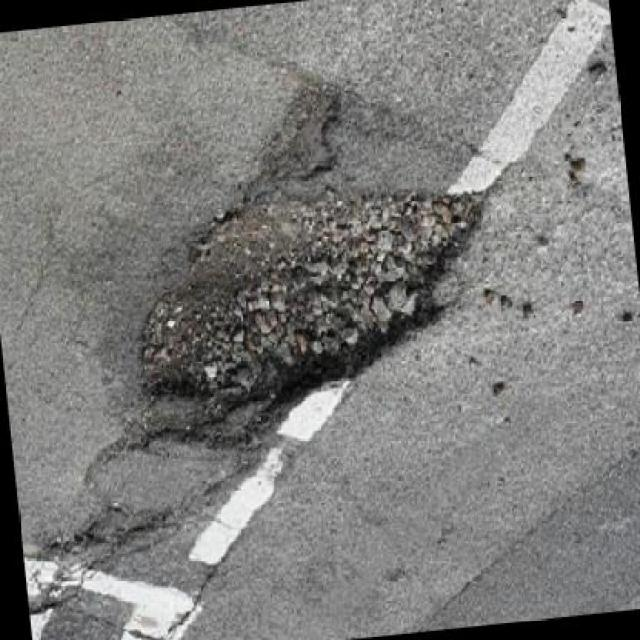pothole1: (120, 168, 511, 450), (262, 72, 351, 188), (41, 498, 170, 570)
